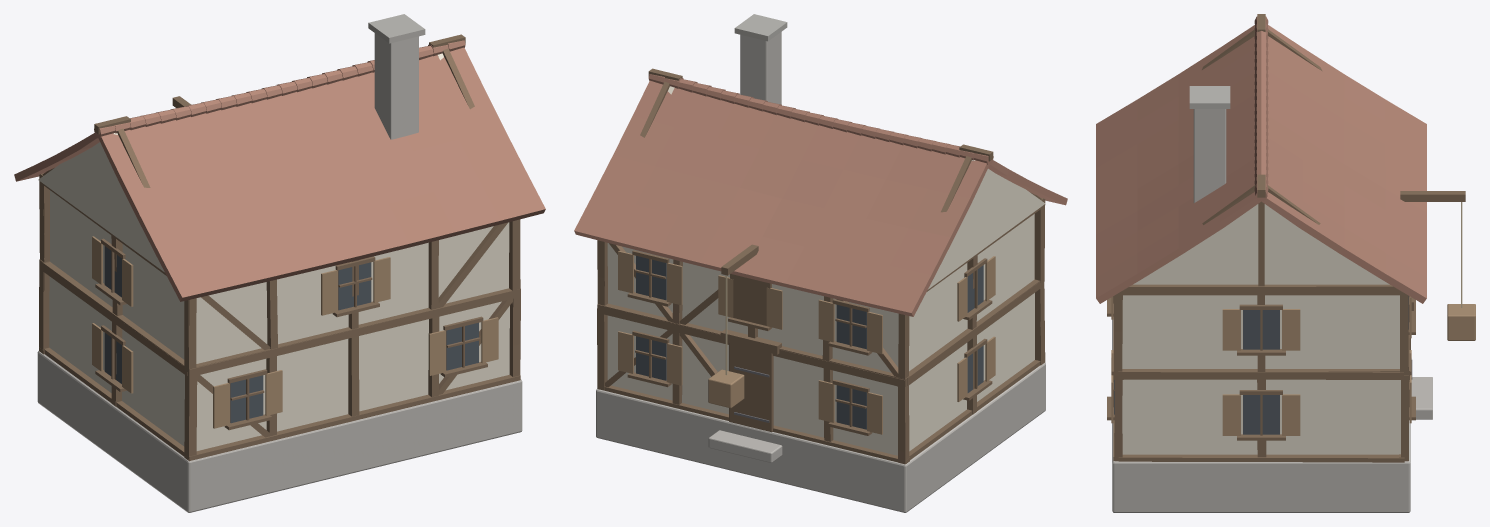
The model's file is kontor.glb.
3 views of the same model, side by side, from view 1: azimuth 30°, elevation 25°; view 2: azimuth 150°, elevation 25°; view 3: azimuth 270°, elevation 25° (orthographic). The views are drawn at different scales.
Parts seen in each view (by area): view 1: kontor; view 2: kontor; view 3: kontor.
Boxes of the visible parts, <box> form: kontor: <box>14,14,545,512</box>; kontor: <box>574,14,1067,512</box>; kontor: <box>1096,14,1475,512</box>.
Size of the model in its own units: 10.2 by 10.32 by 9.3.
